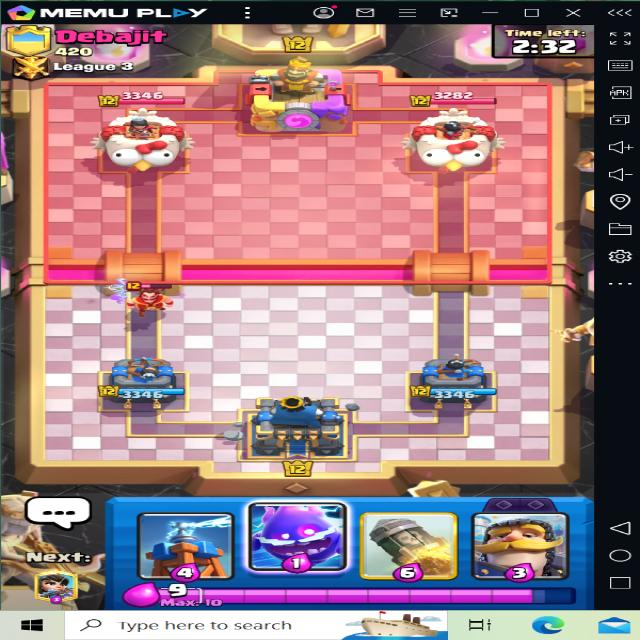electro-wizard: (130, 280, 178, 320)
